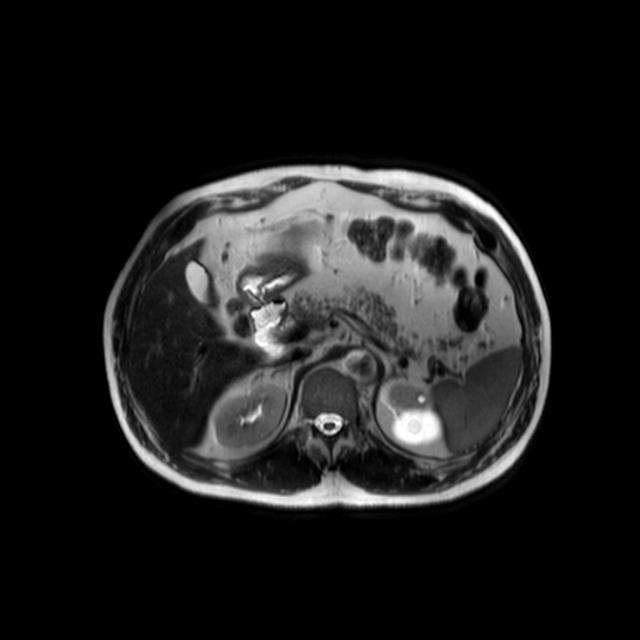sag: (215, 383, 288, 449)
sol: (389, 384, 444, 447)
